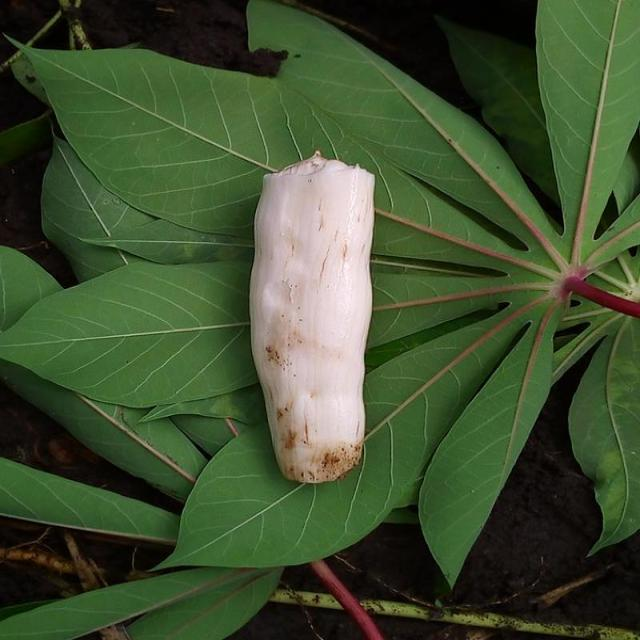cassava leaf: (1, 1, 638, 613), (247, 150, 375, 484)
